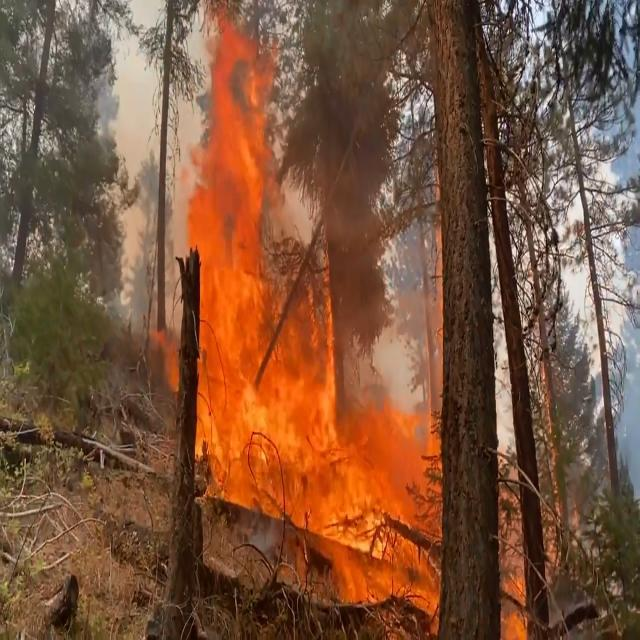Fire: (167, 12, 529, 640)
